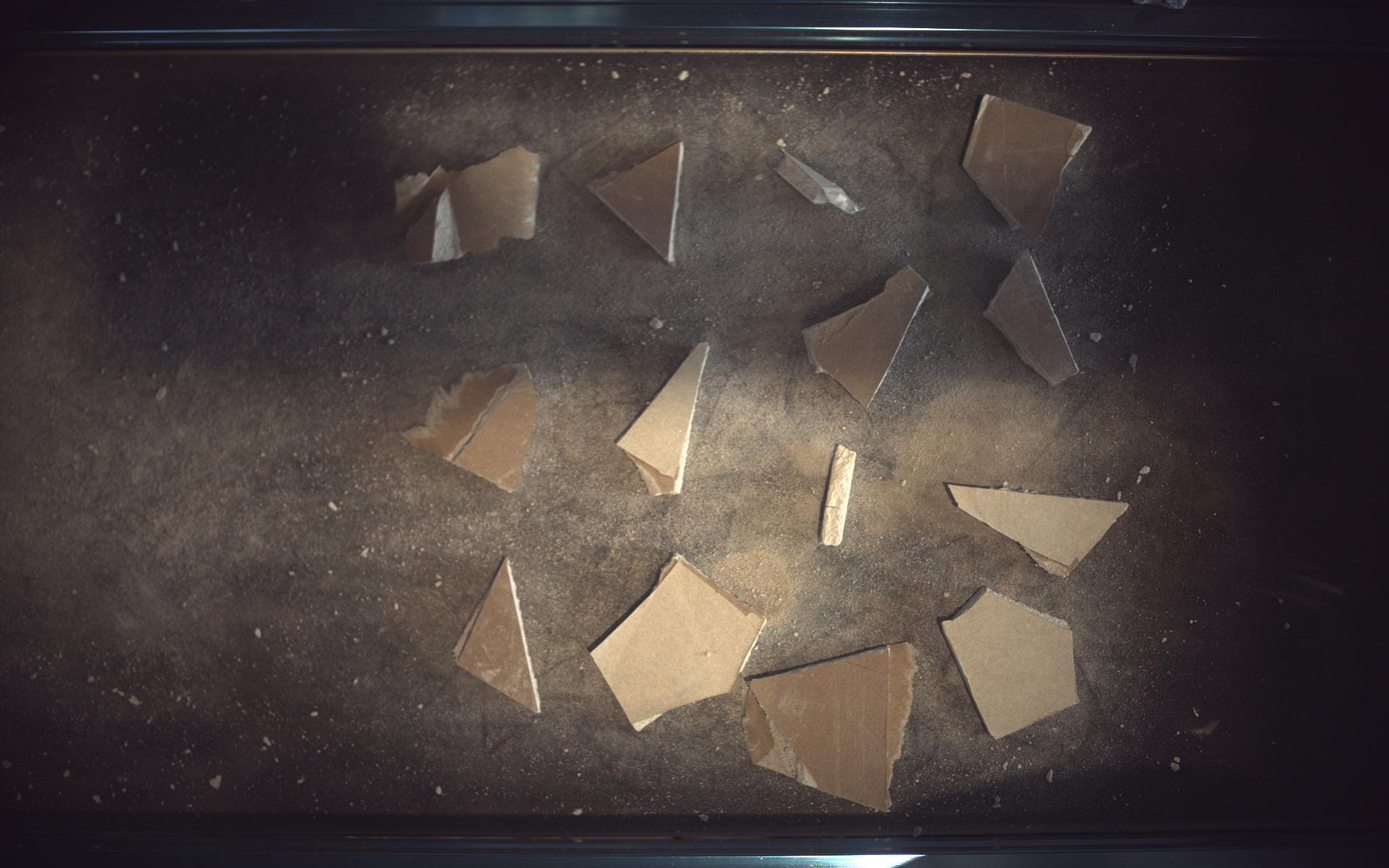gypsum_board: (591, 555, 768, 731), (745, 643, 919, 812), (944, 589, 1081, 740), (965, 93, 1094, 236), (804, 265, 931, 407), (394, 145, 540, 263), (403, 364, 537, 492), (949, 484, 1131, 577), (618, 342, 710, 496), (454, 558, 540, 715), (986, 250, 1081, 386), (589, 140, 685, 263), (777, 139, 865, 213), (822, 444, 857, 546)
